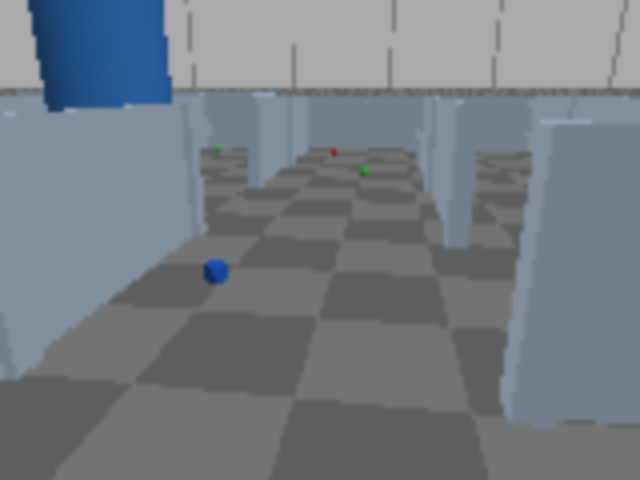puck: (203, 259, 229, 285)
